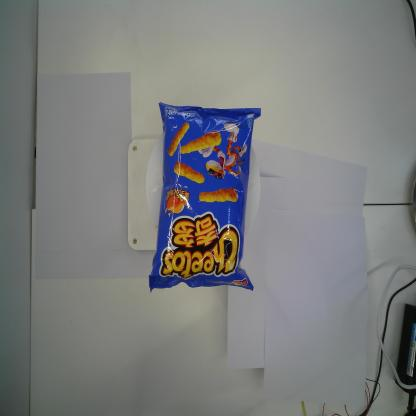Puffed Food: (147, 100, 262, 295)
